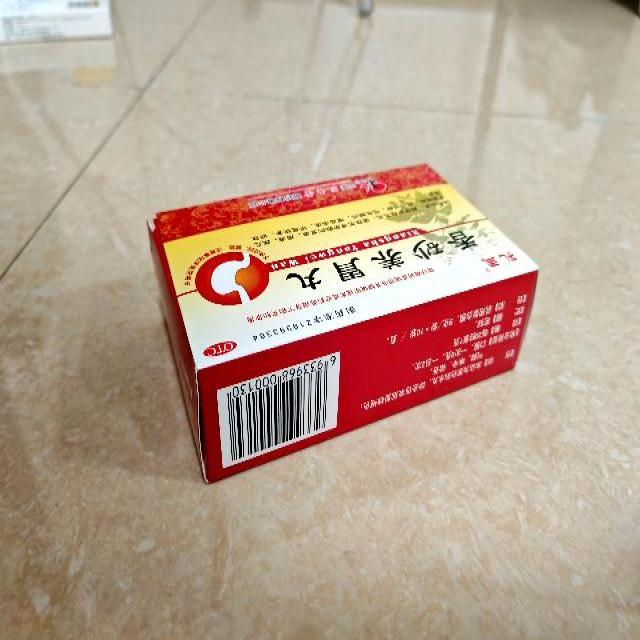box: (149, 162, 539, 489)
